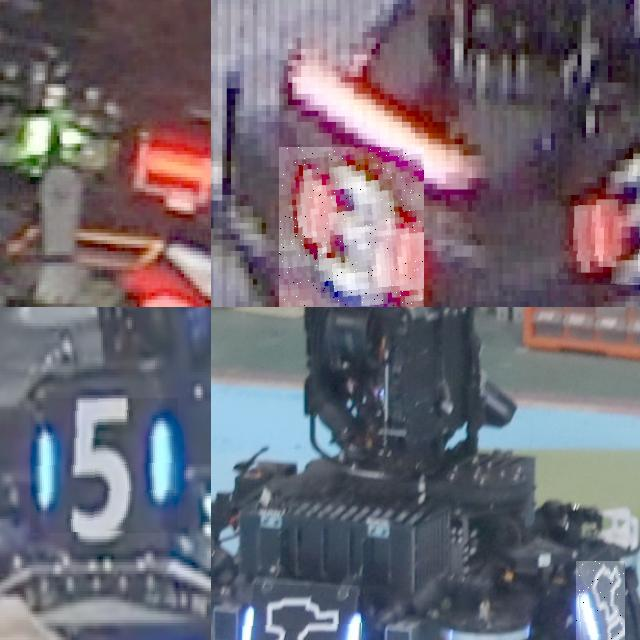B5: (30, 398, 178, 533)
Bs: (241, 585, 363, 640), (576, 560, 624, 640)
R3: (279, 147, 423, 307), (557, 133, 640, 284)
